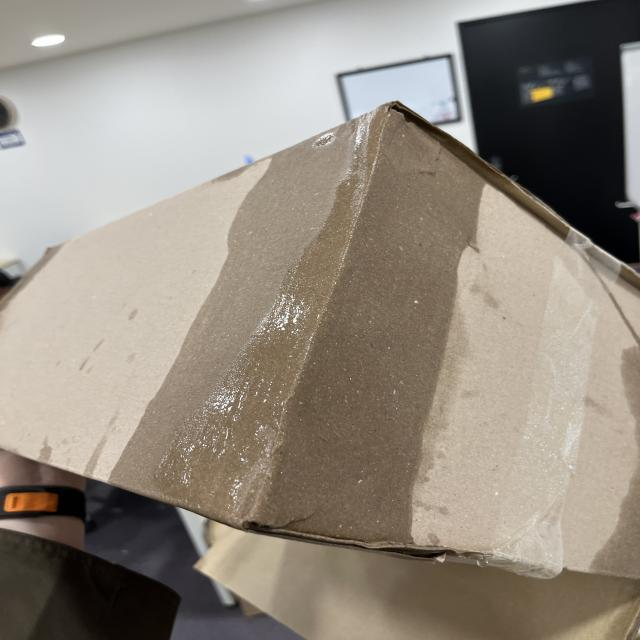wet: (118, 102, 515, 550)
